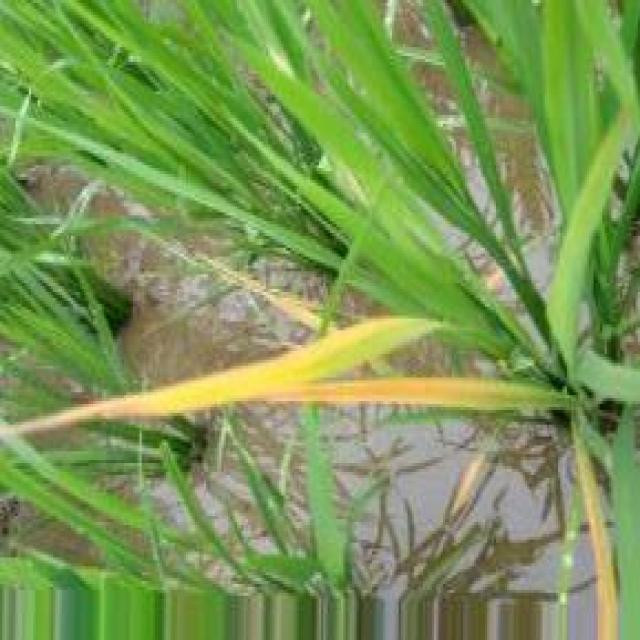Rice Tungro: (1, 316, 566, 437)
